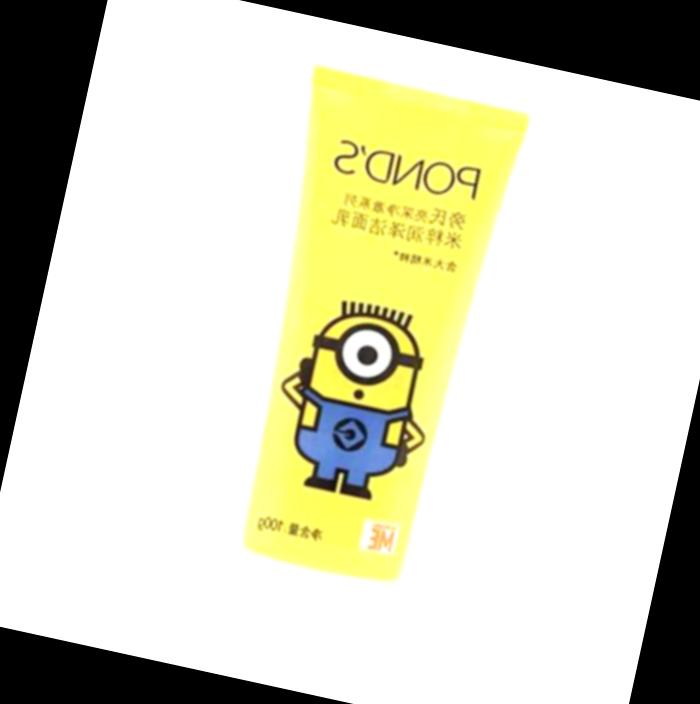cosmetic: (183, 65, 536, 688)
